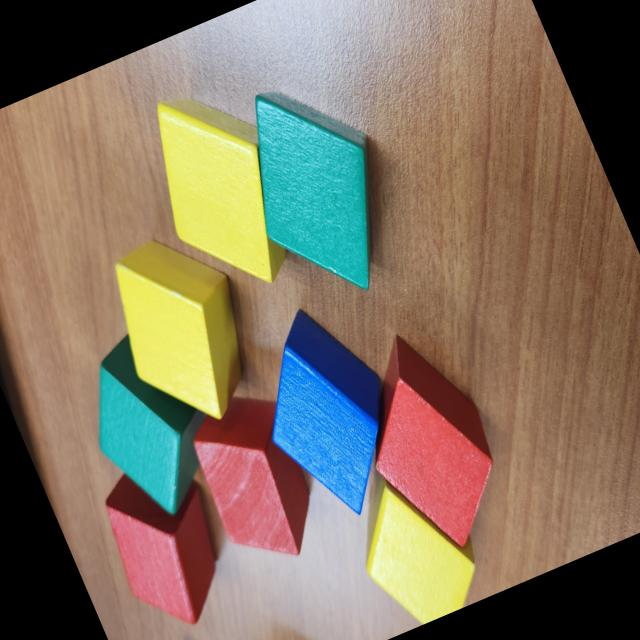blue: (227, 289, 427, 536)
green: (62, 316, 240, 534), (257, 91, 372, 285)
red: (329, 314, 526, 566), (174, 371, 336, 579), (85, 444, 248, 640)
yellow: (125, 70, 318, 310), (92, 219, 278, 442), (329, 440, 496, 636)
